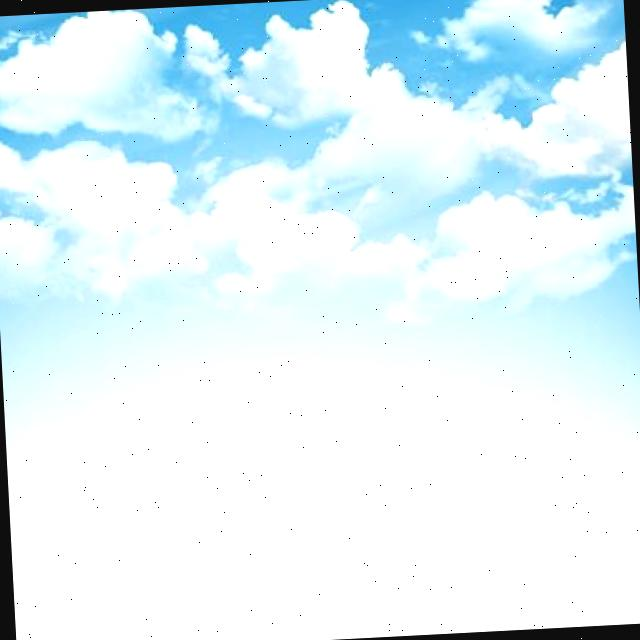Cu: (1, 1, 640, 411)
